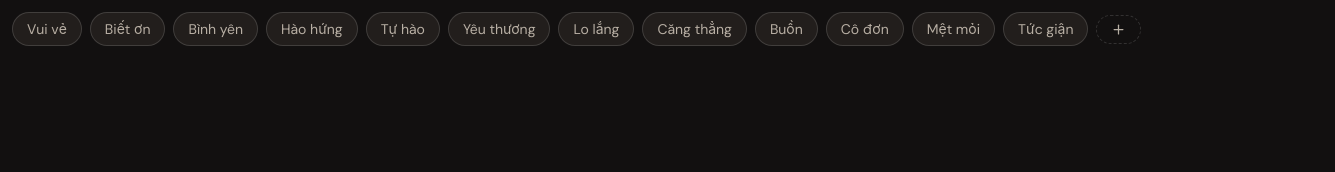
it: TagPicker – tag tùy chỉnh › trùng: chọn chip cũ (không phân biệt dấu/hoa thường), không tạo mới
Click the button named "Thêm cảm xúc mới" at (1119, 29), box [1096,14,1142,44]
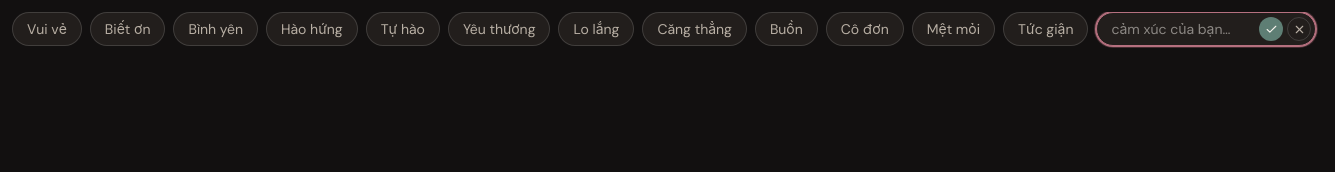
Type "VUI VE" into the field labelled "cảm xúc của bạn" at (1184, 29), box [1112,19,1256,39]
Then press Enter
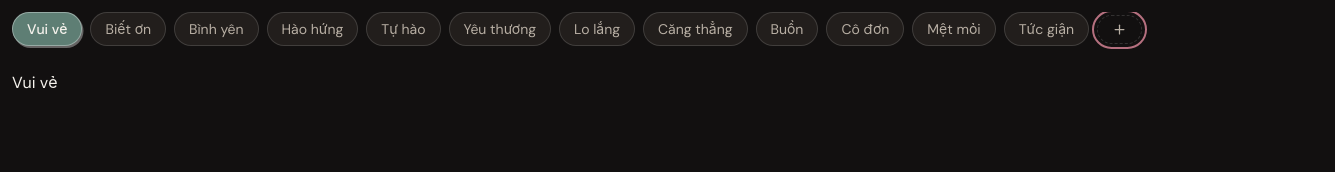
Now the text with test id "selected" reads "Vui vẻ", box [12,72,58,93]
